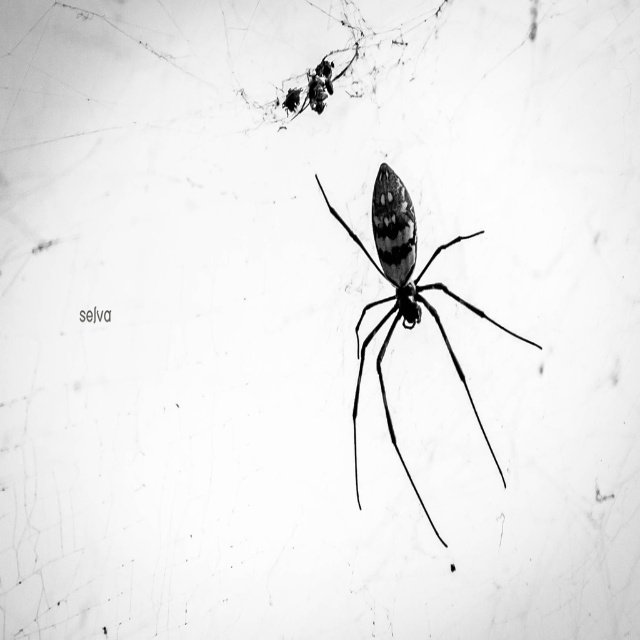Spider: (315, 163, 542, 548), (288, 42, 358, 126)
